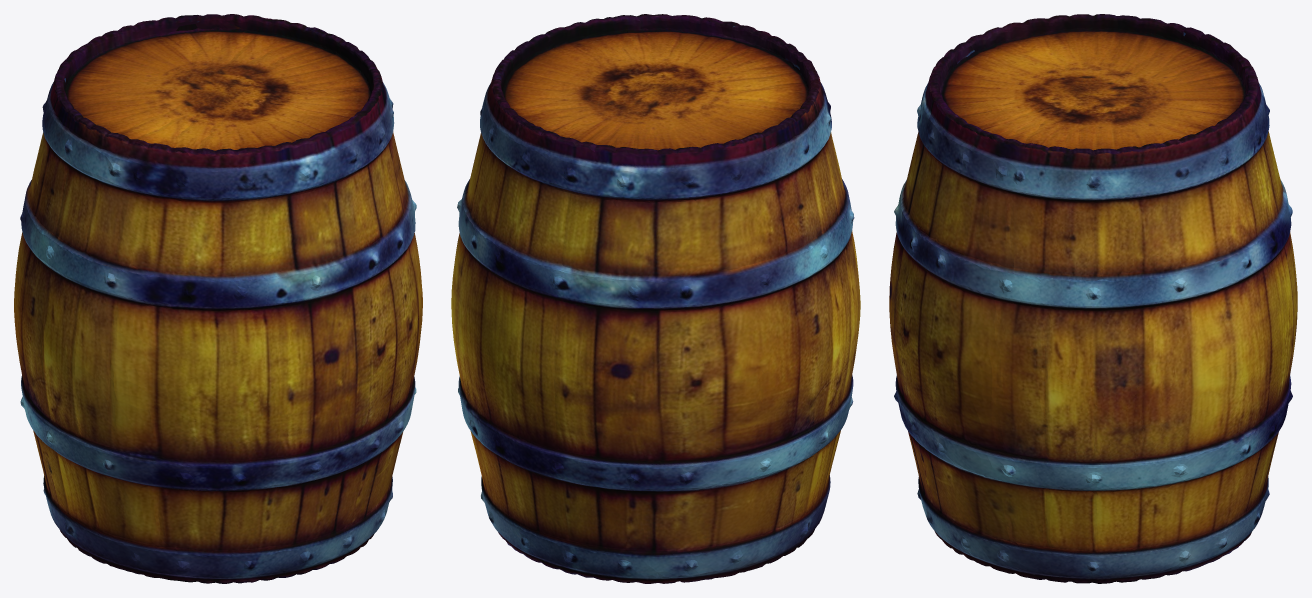
File: mdl_barrel_001.glb
3 renders of one model, left to right at view 1: azimuth 30°, elevation 25°; view 2: azimuth 150°, elevation 25°; view 3: azimuth 270°, elevation 25°, orthographic.
Parts seen in each view (by area): view 1: tmpiw7xwasz.ply; view 2: tmpiw7xwasz.ply; view 3: tmpiw7xwasz.ply.
Boxes of the visible parts, x1=… form: tmpiw7xwasz.ply: x1=14, y1=14, x2=422, y2=583; tmpiw7xwasz.ply: x1=451, y1=14, x2=860, y2=583; tmpiw7xwasz.ply: x1=889, y1=14, x2=1297, y2=583.
Bounding box in the file's own units: 0.8413 × 0.991 × 0.8448.
1 material, 1 textured.
